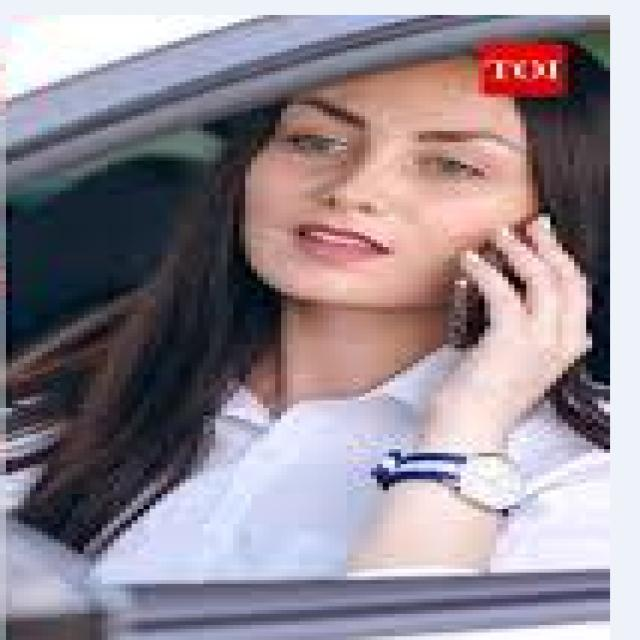Cellphone_calling: (305, 165, 598, 434)
